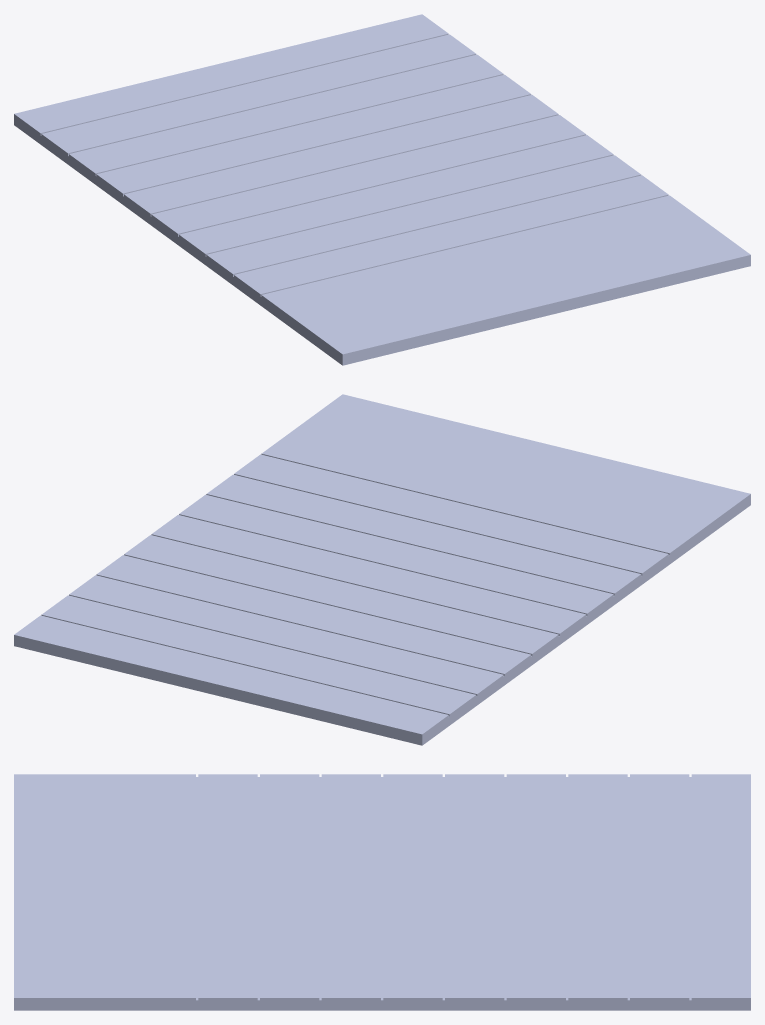
Rendered from Drawers for10 Drawer base cabinet - 40in..fbx.
3 views of the same model, one above another, from view 1: azimuth 30°, elevation 25°; view 2: azimuth 150°, elevation 25°; view 3: azimuth 270°, elevation 25° (orthographic). The views are drawn at different scales.
Visible parts, largest first — view 1: Body_1; view 2: Body_1; view 3: Body_1.
Part boxes in pixels (bbox=[...]): Body_1: bbox=[14, 14, 750, 365]; Body_1: bbox=[14, 394, 750, 745]; Body_1: bbox=[14, 774, 750, 1010].
Bounding box in the file's own units: 0.9601 × 1.34 × 0.0254.
